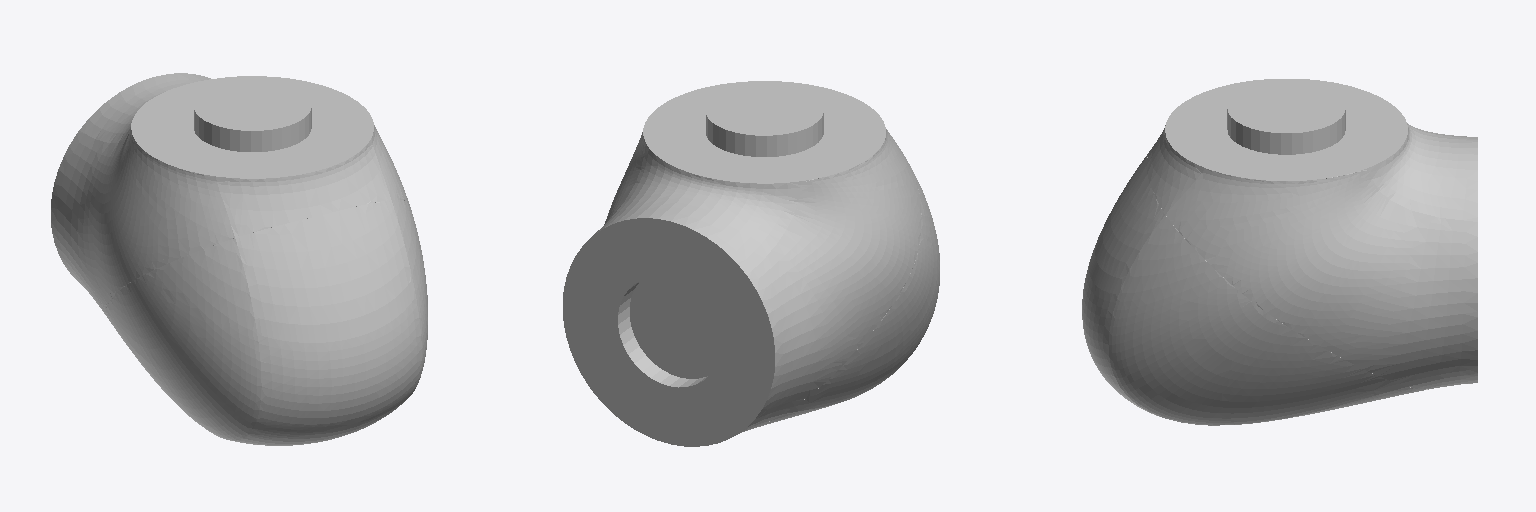
Rendered from lbr_iiwa_14_r820_part_7.obj.
The picture shows the model from 3 angles: view 1: azimuth 30°, elevation 25°; view 2: azimuth 150°, elevation 25°; view 3: azimuth 270°, elevation 25°; orthographic projection.
Parts seen in each view (by area): view 1: mesh 1 LBR IIWA 14 R820.sldasm-Part-7; view 2: mesh 1 LBR IIWA 14 R820.sldasm-Part-7; view 3: mesh 1 LBR IIWA 14 R820.sldasm-Part-7.
Part boxes in pixels (bbox=[...]): mesh 1 LBR IIWA 14 R820.sldasm-Part-7: bbox=[51, 73, 427, 445]; mesh 1 LBR IIWA 14 R820.sldasm-Part-7: bbox=[563, 81, 939, 446]; mesh 1 LBR IIWA 14 R820.sldasm-Part-7: bbox=[1082, 79, 1477, 425].
Bounding box in the file's own units: 0.1323 × 0.1376 × 0.1674.